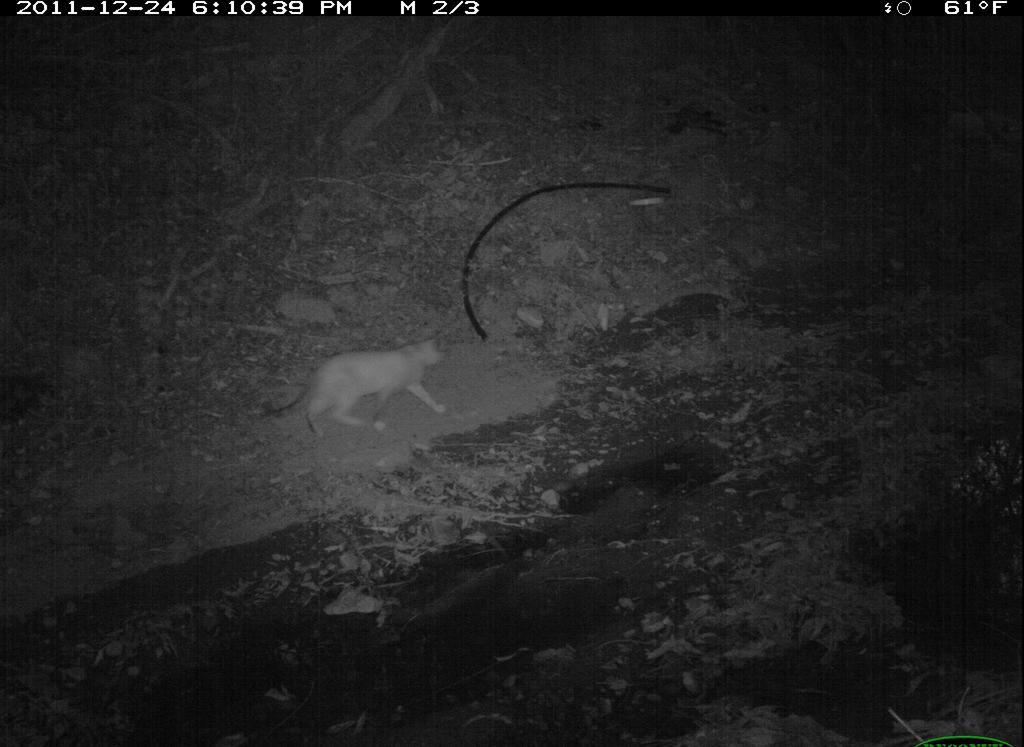cat: (260, 314, 484, 450)
